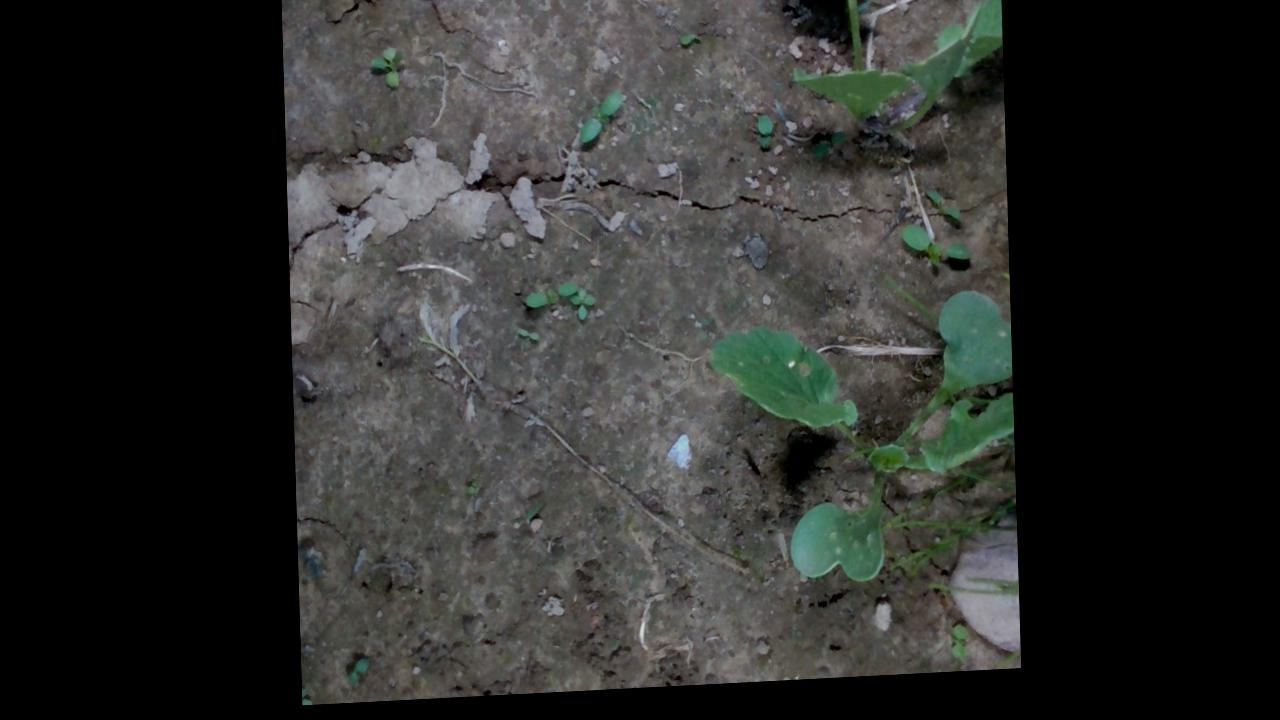weed: (898, 230, 970, 277), (577, 94, 625, 150), (368, 48, 404, 94), (925, 192, 964, 234), (754, 117, 777, 158), (343, 659, 368, 692), (676, 36, 699, 57), (513, 330, 539, 347), (463, 481, 477, 501)
